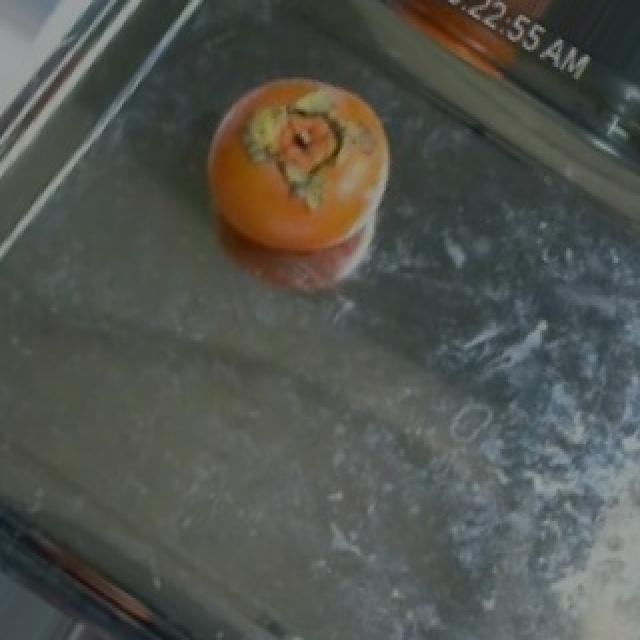Fruit: (186, 57, 414, 323)
